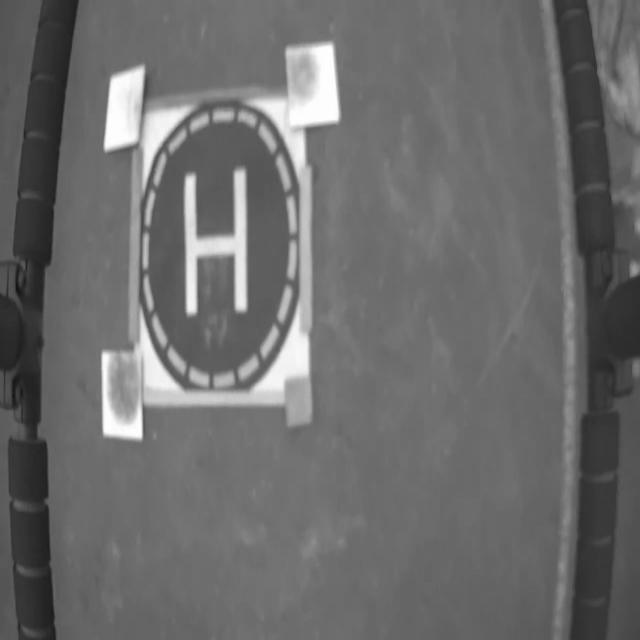Helipad: (185, 170, 247, 314)
